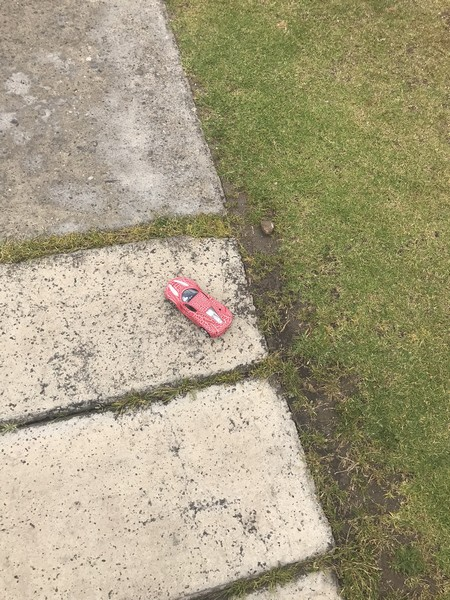RC: (162, 276, 235, 339)
